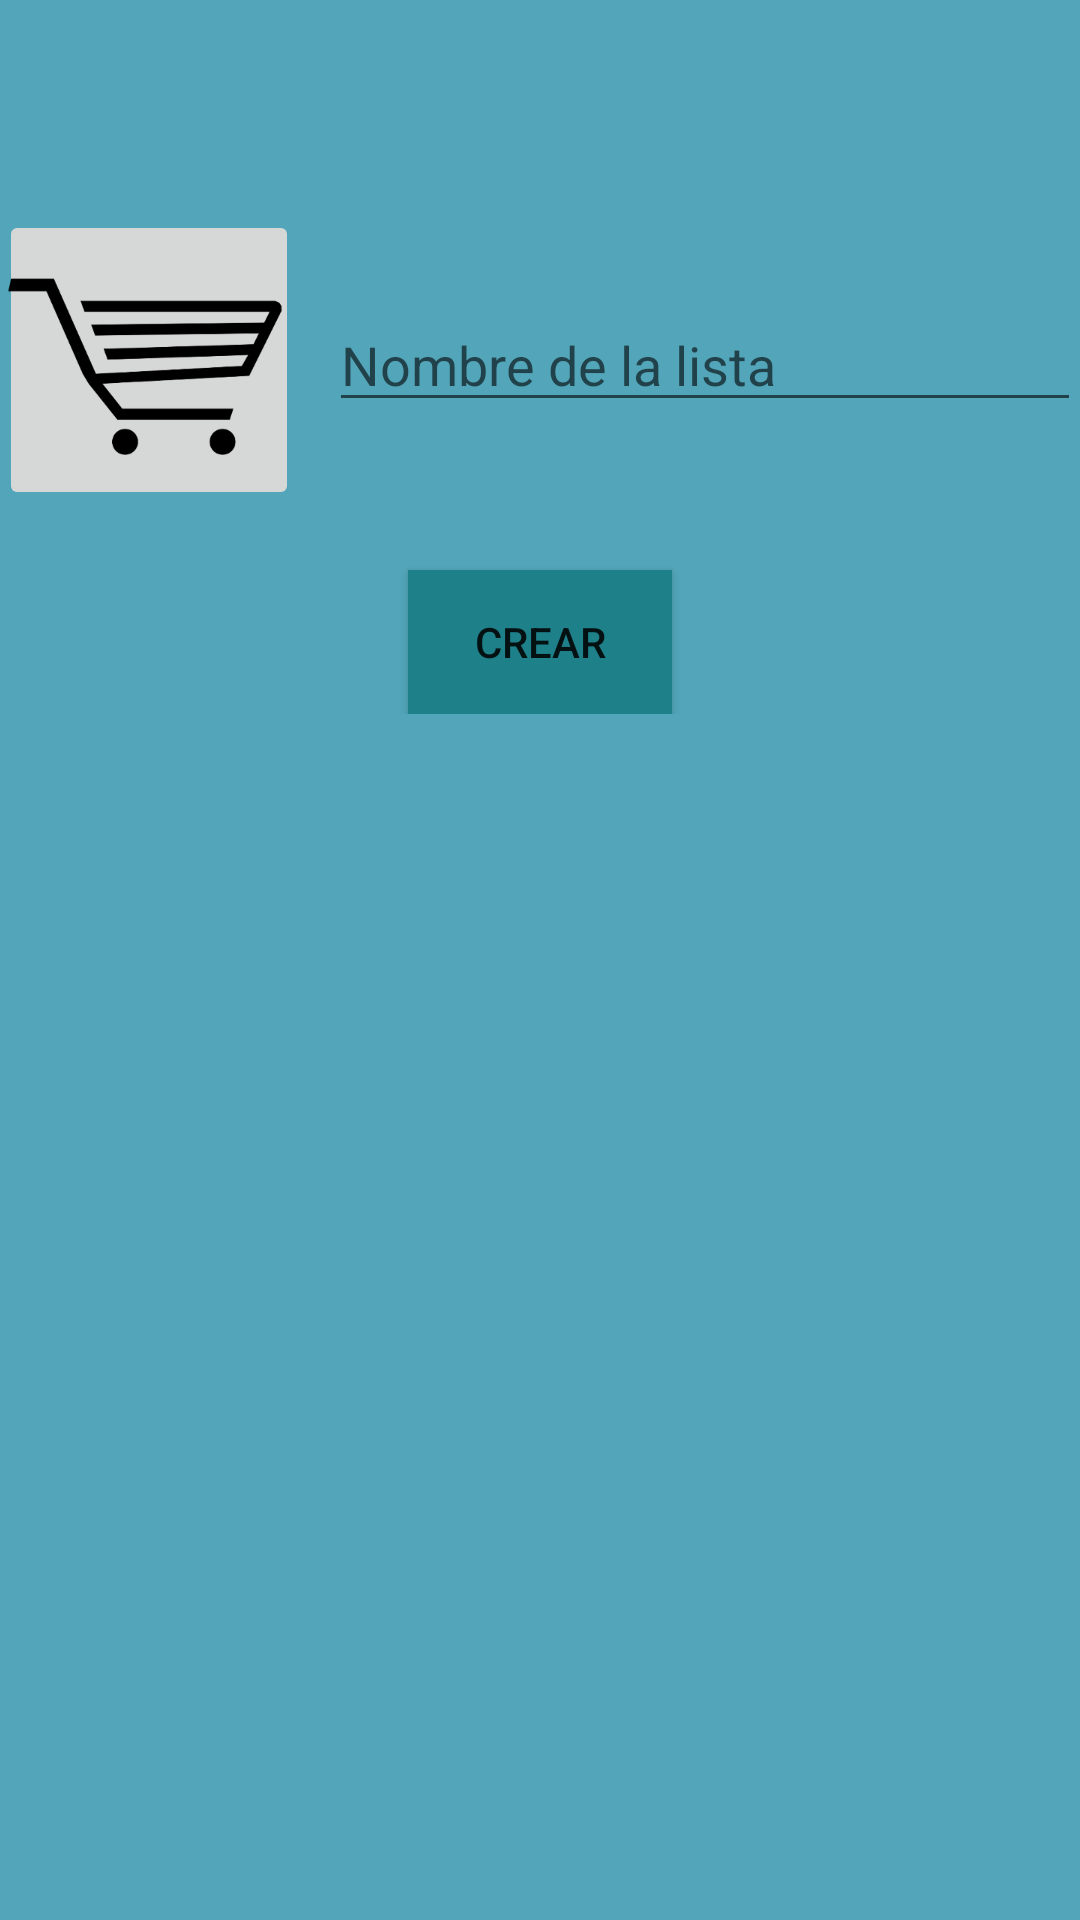

Named icons in this screenshot (1080*1920) and their centers, point (x, y):
carro pequeno: point (147, 360)
